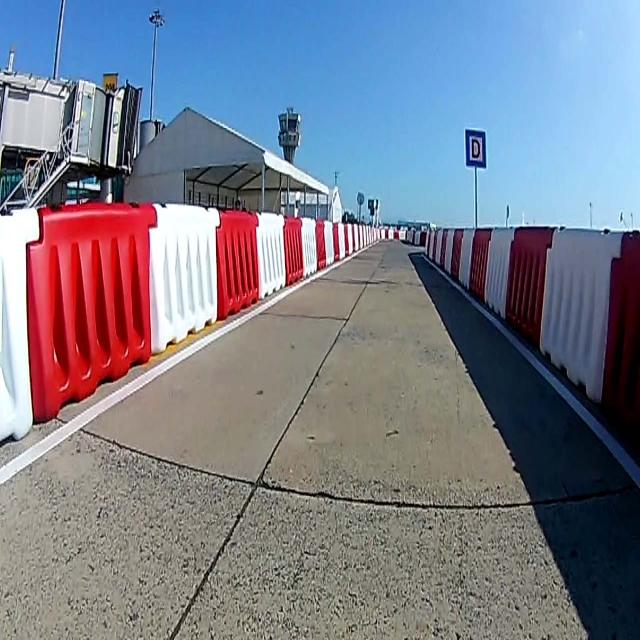durak: (464, 129, 486, 167)
